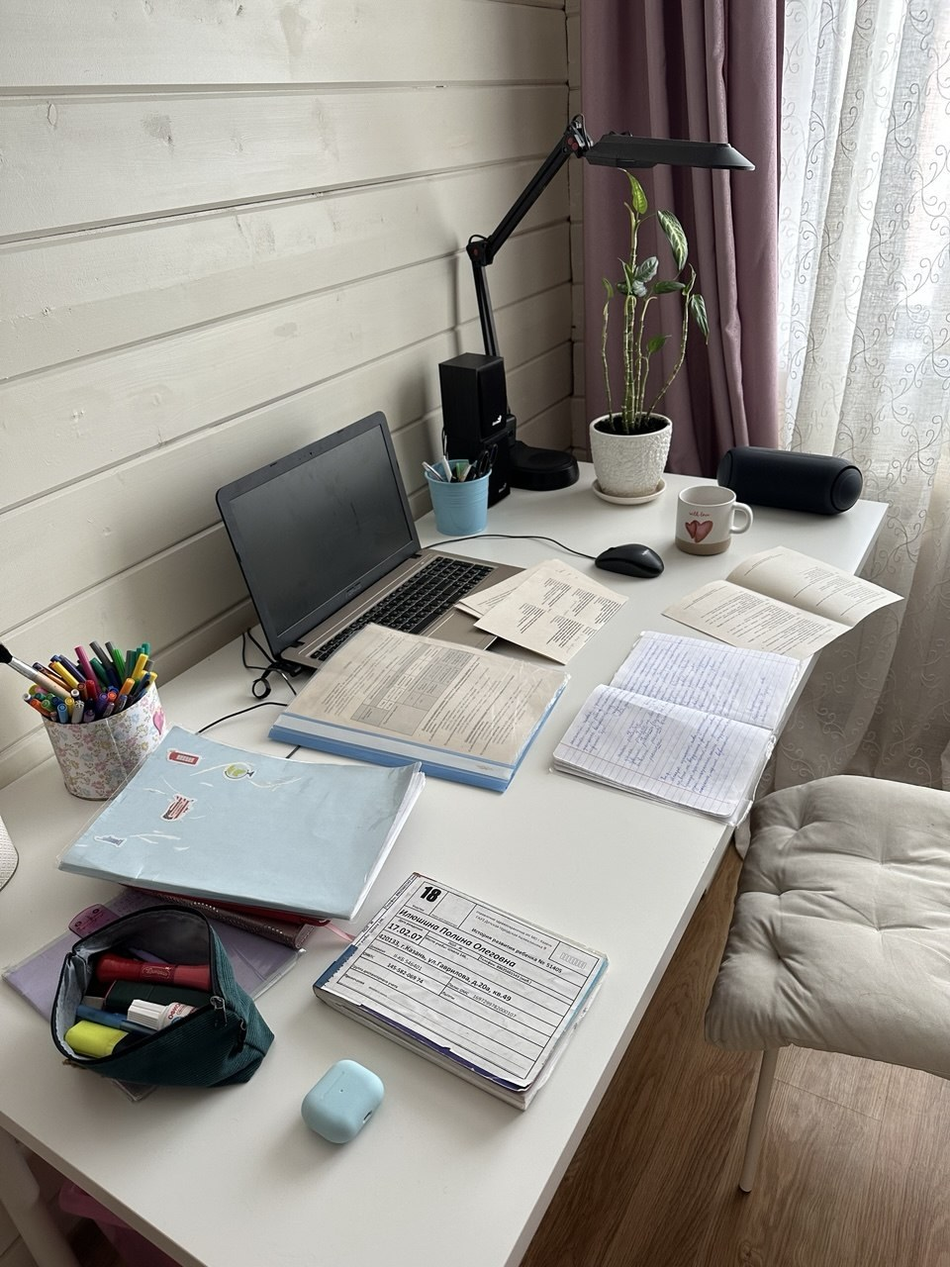laptop: (215, 410, 528, 675)
